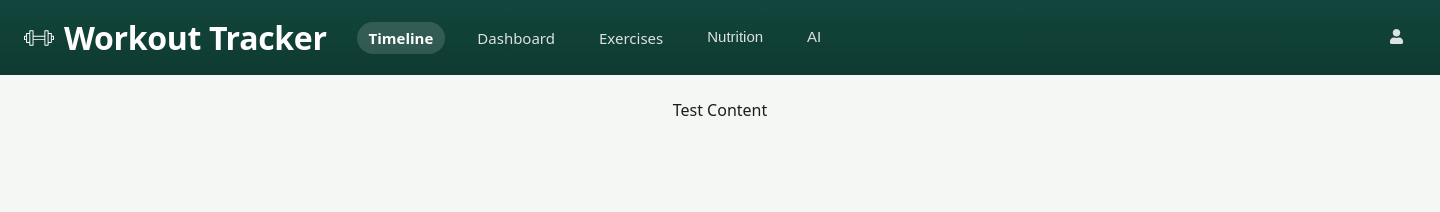
Layout - Header Navigation › when user is logged in › shows AI dropdown with Workout Coach and Diagnostician
# Simulate click to open dropdown
Click the button "AI": {"x": 814, "y": 36} [795,22,833,50]
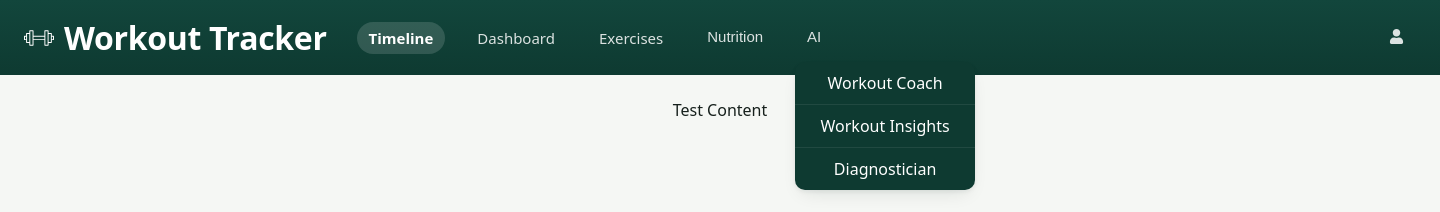
Expected: the link "Workout Coach" is shown, [795,62,975,104]
Expected: the link "Diagnostician" is shown, [834,158,936,180]
